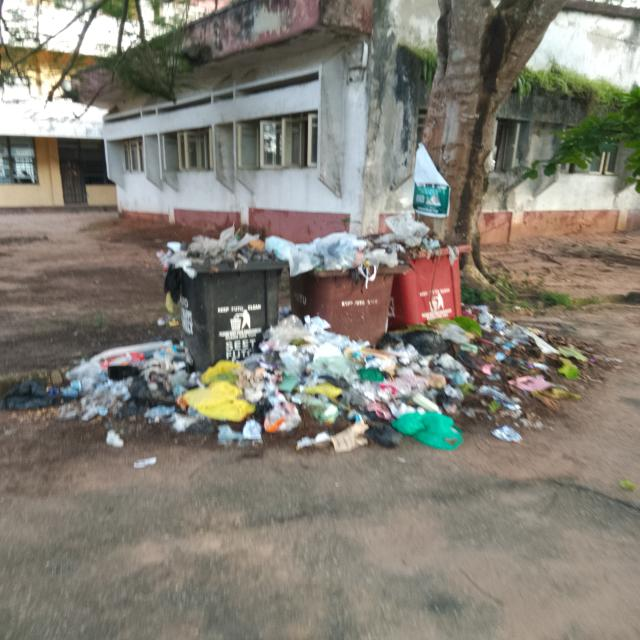overflowing: (264, 232, 398, 282), (155, 231, 287, 273), (371, 213, 479, 263)
